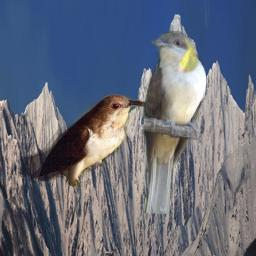Cuckoo: (140, 31, 207, 214), (19, 94, 147, 187)
